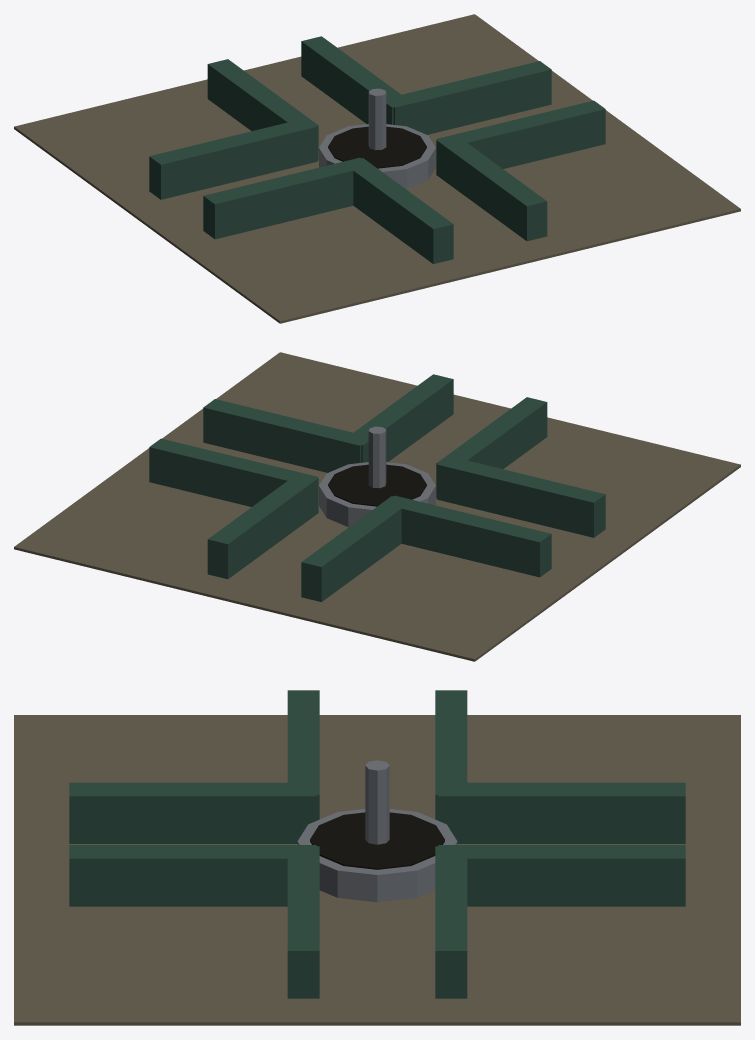
The model's file is CourtyardFormalGarden.fbx.
The picture shows the model from 3 angles, top to bottom: view 1: azimuth 30°, elevation 25°; view 2: azimuth 150°, elevation 25°; view 3: azimuth 270°, elevation 25°; orthographic projection. The views are drawn at different scales.
Visible parts, largest first — view 1: CourtyardFormalGarden; view 2: CourtyardFormalGarden; view 3: CourtyardFormalGarden.
Part boxes in pixels (<box>): CourtyardFormalGarden: <box>14,14,740,323</box>; CourtyardFormalGarden: <box>14,352,740,661</box>; CourtyardFormalGarden: <box>14,690,740,1025</box>.
Bounding box in the file's own units: 1182 × 191 × 1182.
4 materials, 4 textured.
